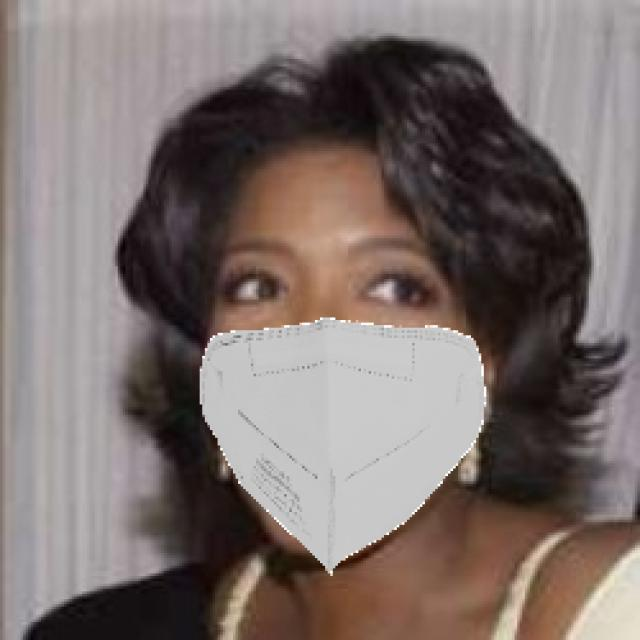kn95: (198, 172, 479, 558)
